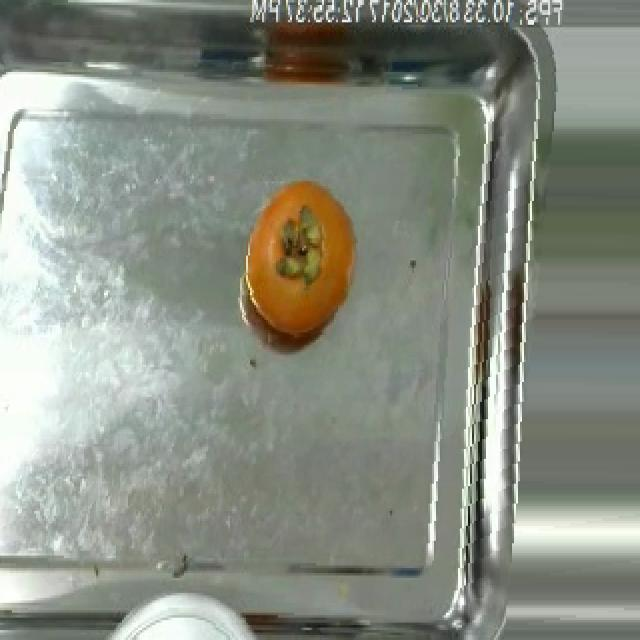Fruit: (242, 173, 364, 344)
